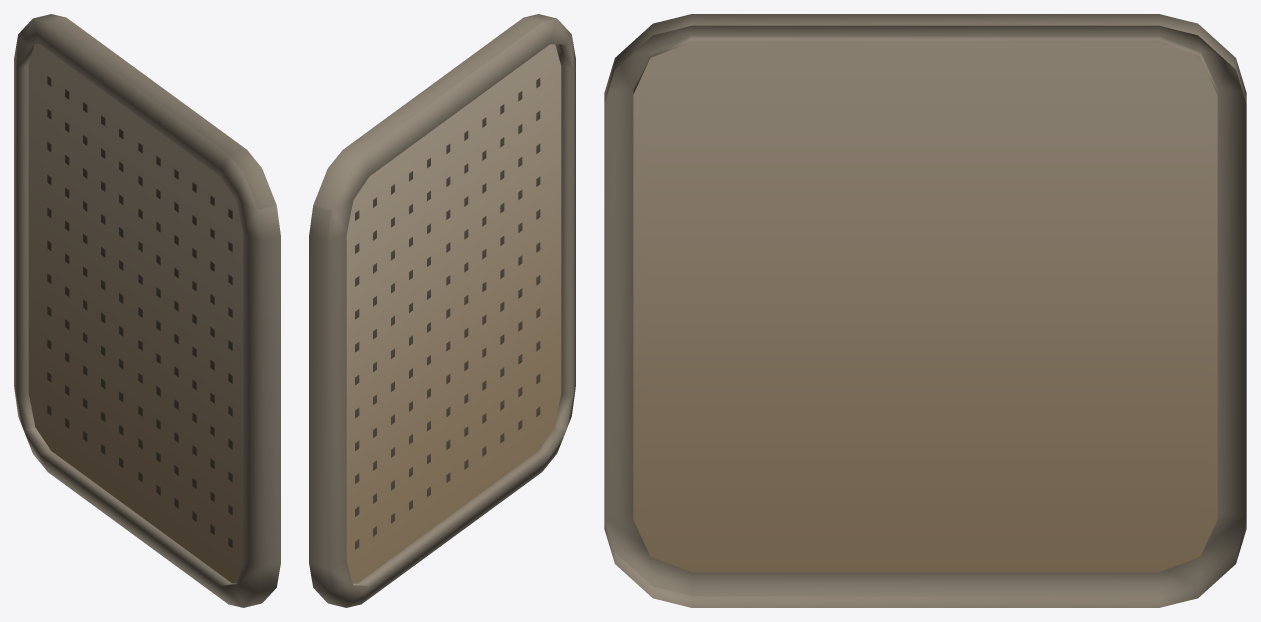
The model's file is WallStandRounded_Short.fbx.
The picture shows the model from 3 angles, left to right: view 1: azimuth 30°, elevation 25°; view 2: azimuth 150°, elevation 25°; view 3: azimuth 270°, elevation 25°; orthographic projection. The views are drawn at different scales.
Visible parts, largest first — view 1: WallStandRounded_Short, WallStandRounded_Short_Holes; view 2: WallStandRounded_Short, WallStandRounded_Short_Holes; view 3: WallStandRounded_Short.
Boxes of the visible parts, x1,y1,x2,y2 form: WallStandRounded_Short: (14, 14, 280, 607); WallStandRounded_Short_Holes: (47, 76, 232, 547); WallStandRounded_Short: (309, 14, 575, 607); WallStandRounded_Short_Holes: (355, 78, 540, 549); WallStandRounded_Short: (604, 14, 1246, 607).
Size of the model in its own units: 16.97 by 275 by 275.
